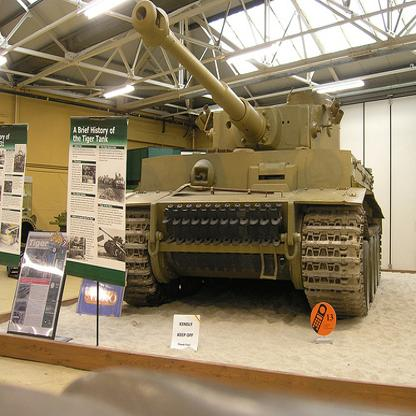Tank: (104, 2, 384, 336)
